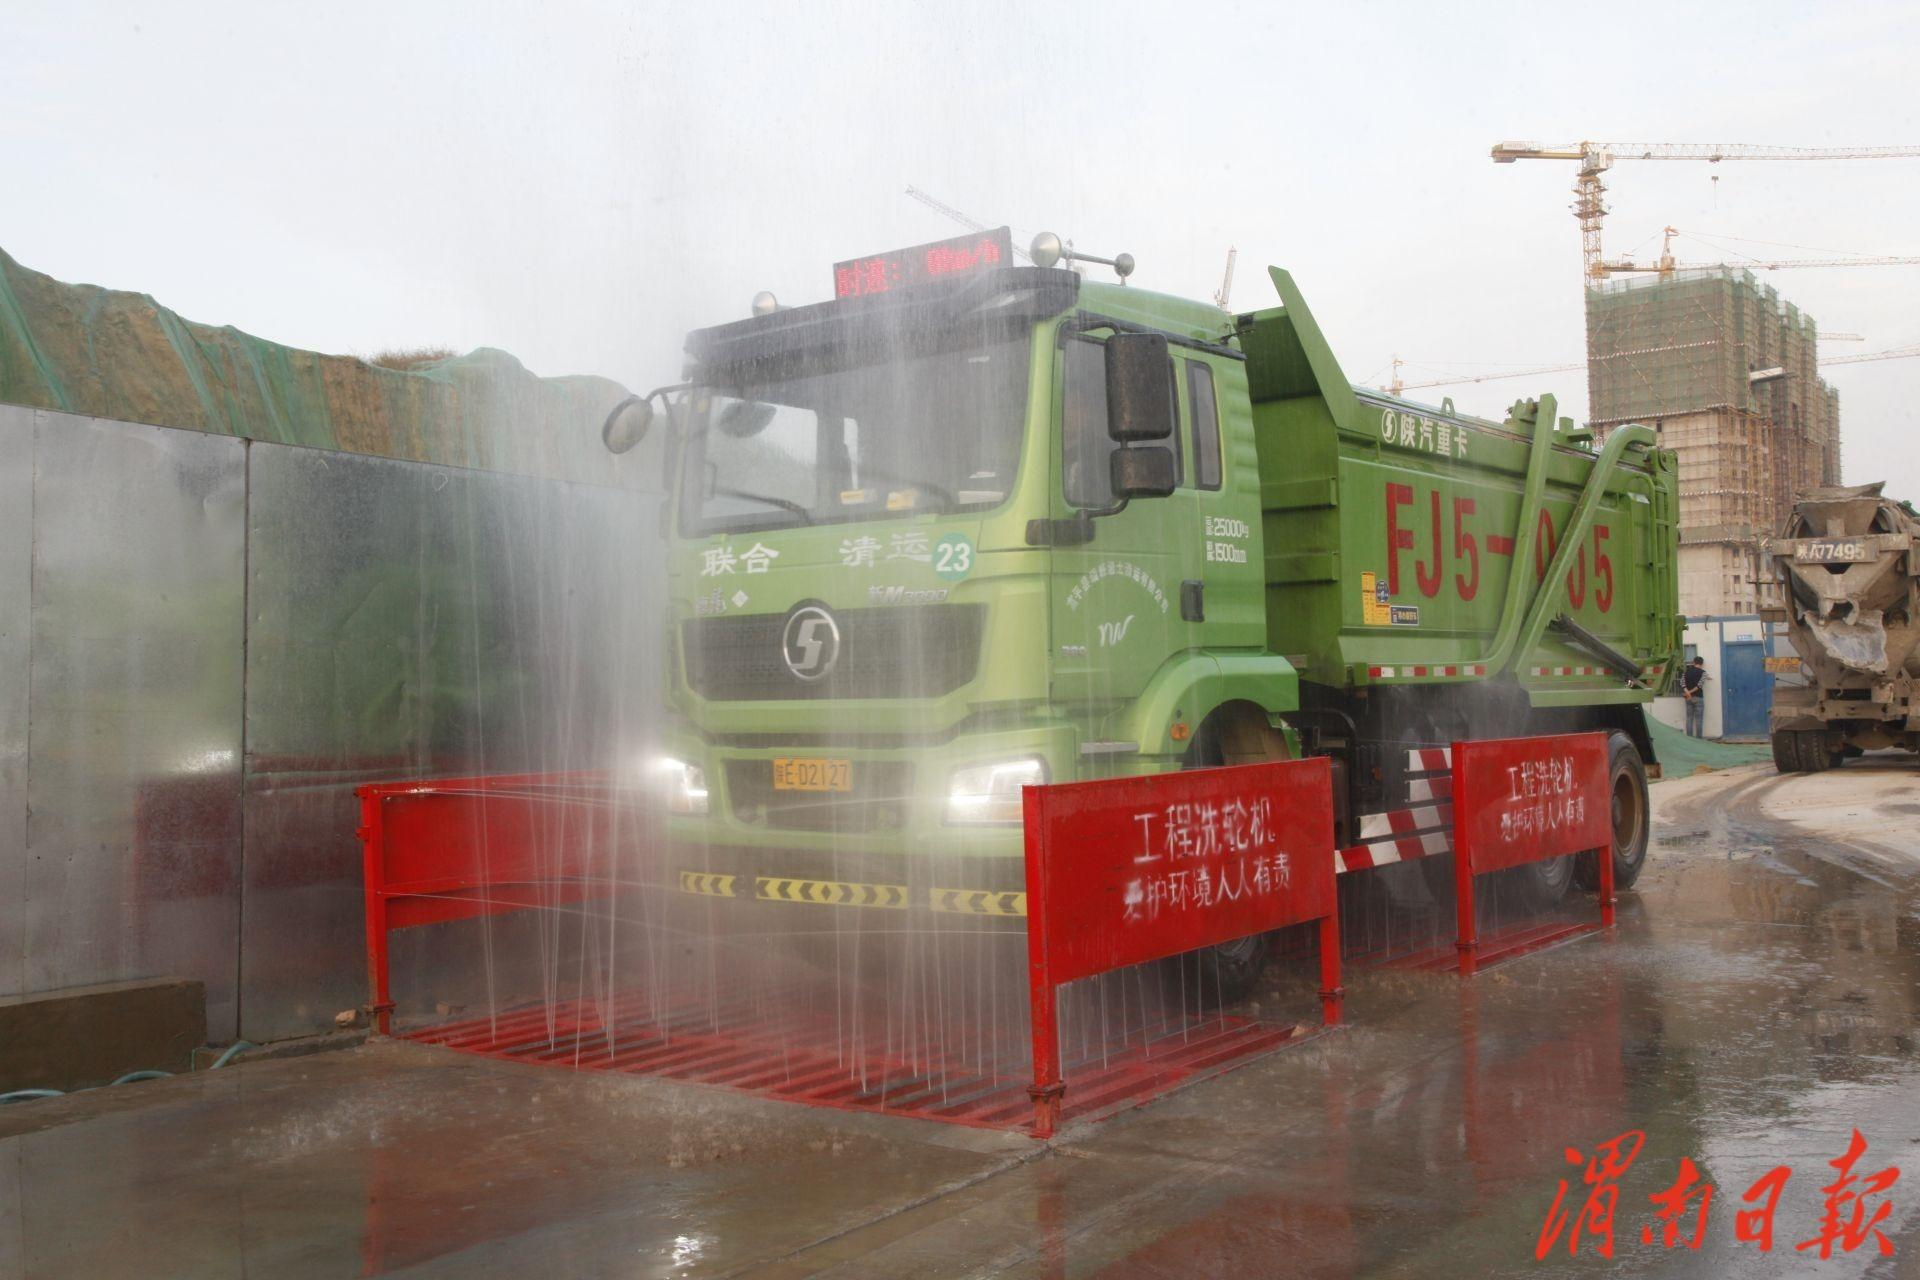truck: (647, 247, 1721, 961)
